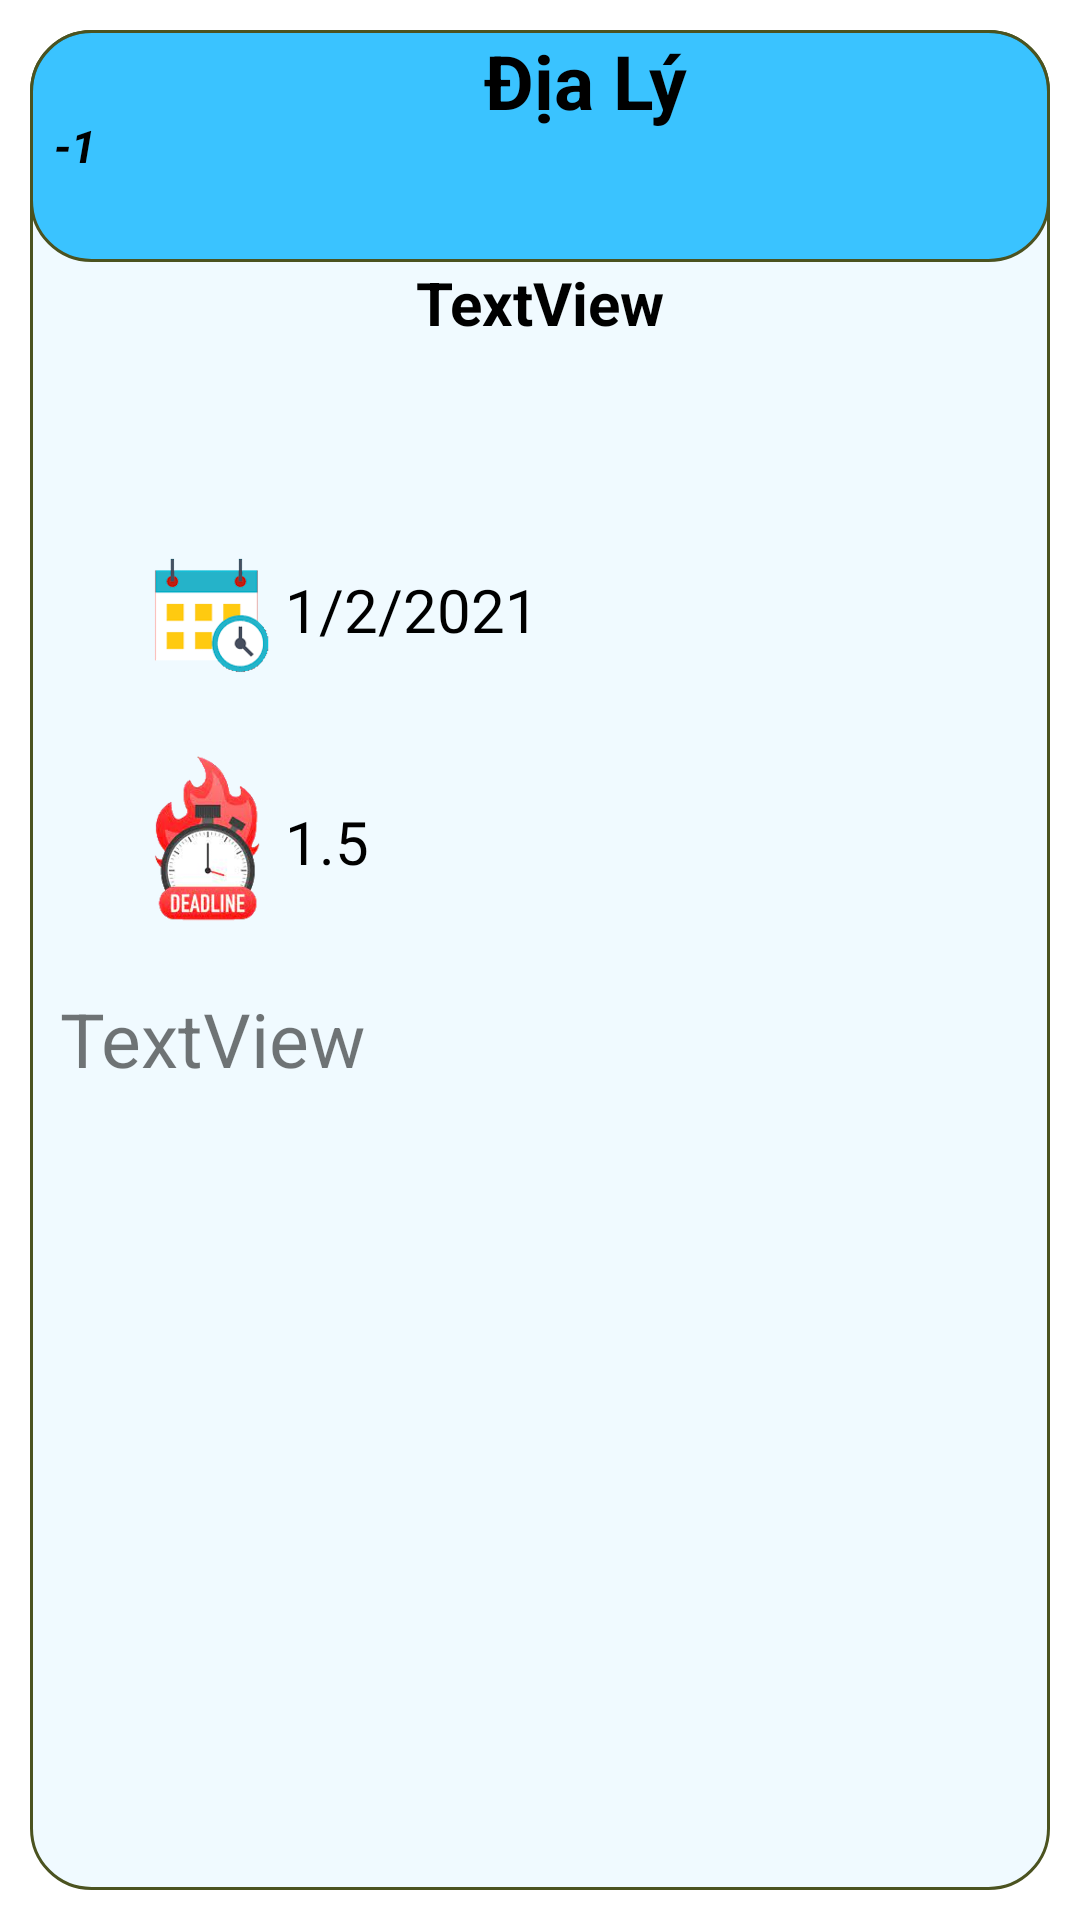

Named icons in this screenshot (1080w x 1920h) and their centers, [x,y]:
iconlich: [212,615]
